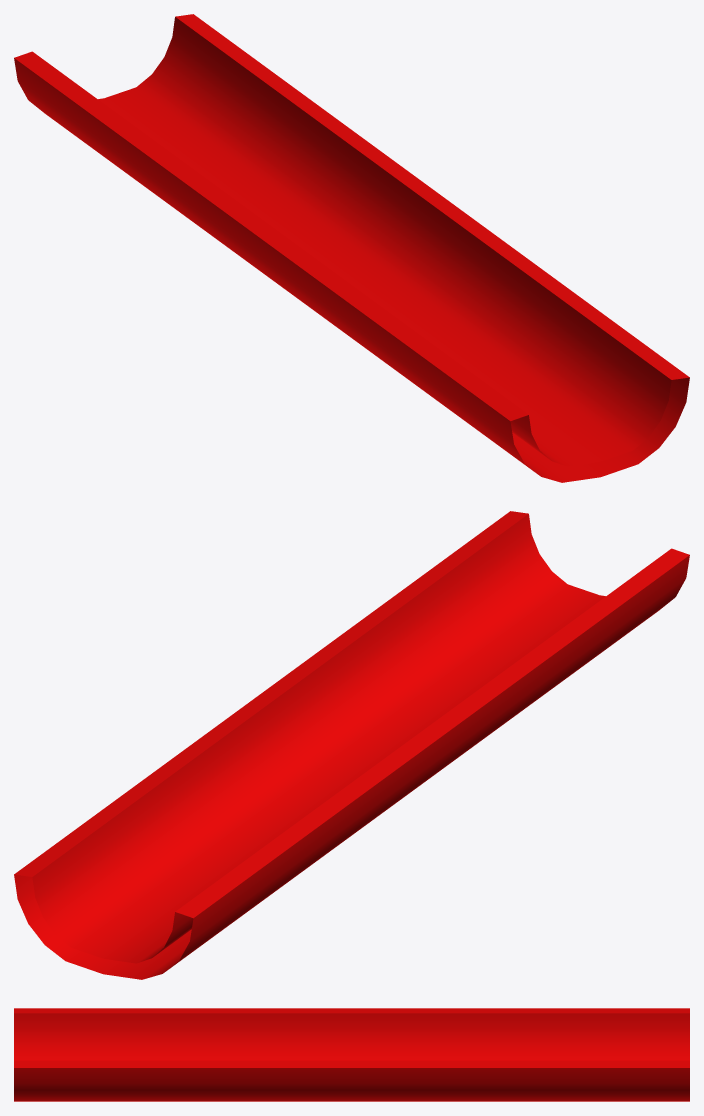
File: Extruded_Connector_Pipe_Straight_Artery.fbx
3 views of the same model, one above another, from view 1: azimuth 30°, elevation 25°; view 2: azimuth 150°, elevation 25°; view 3: azimuth 270°, elevation 25° (orthographic). The views are drawn at different scales.
Visible parts, largest first — view 1: pPipe20; view 2: pPipe20; view 3: pPipe20.
Boxes of the visible parts, x1,y1,x2,y2 form: pPipe20: (14,14,689,482); pPipe20: (14,511,689,979); pPipe20: (14,1008,689,1101).
Size of the model in its own units: 2.41 by 1.02 by 11.54.
